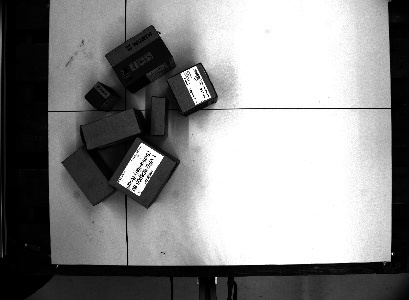b1: (148, 95, 170, 139)
b2: (57, 146, 116, 206)
b3: (84, 82, 121, 113)
b4: (104, 21, 175, 87)
b5: (109, 138, 180, 209)
b6: (78, 108, 145, 151)
b7: (163, 61, 221, 115)
